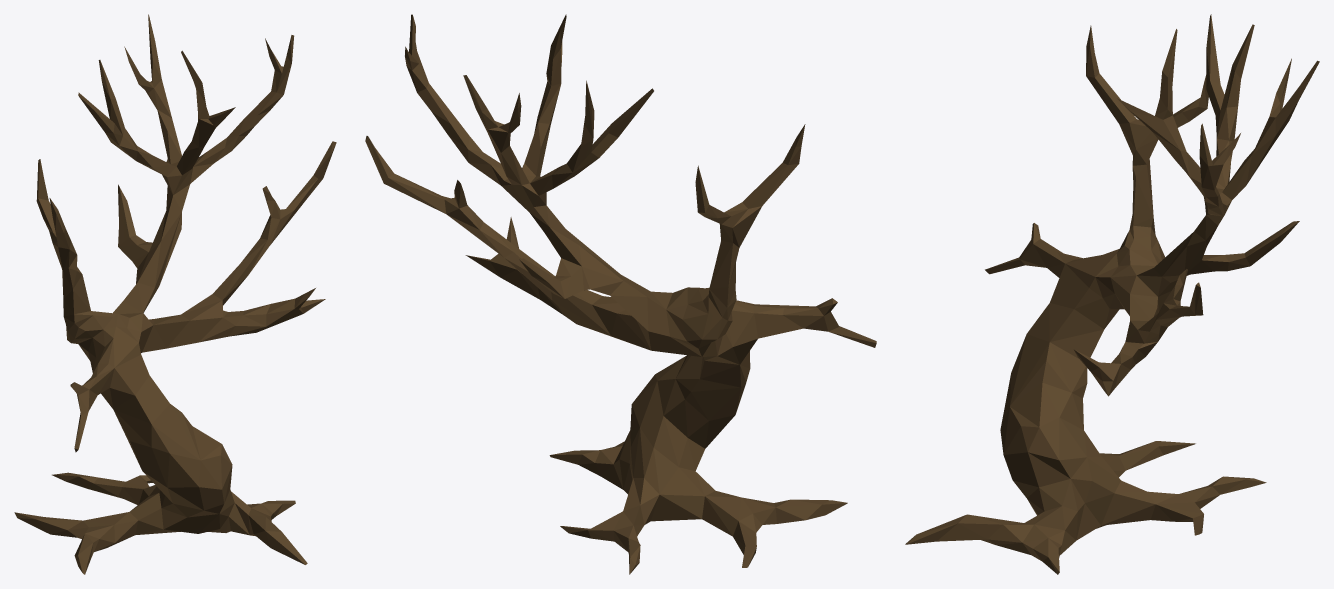
File: Tree_08.fbx
3 renders of one model, left to right at view 1: azimuth 30°, elevation 25°; view 2: azimuth 150°, elevation 25°; view 3: azimuth 270°, elevation 25°, orthographic. The views are drawn at different scales.
Visible parts, largest first — view 1: Tree_08; view 2: Tree_08; view 3: Tree_08.
Boxes of the visible parts, bbox=[...] form: Tree_08: bbox=[14, 14, 336, 574]; Tree_08: bbox=[365, 14, 876, 574]; Tree_08: bbox=[905, 14, 1319, 574].
Bounding box in the file's own units: 500 × 605 × 435.
